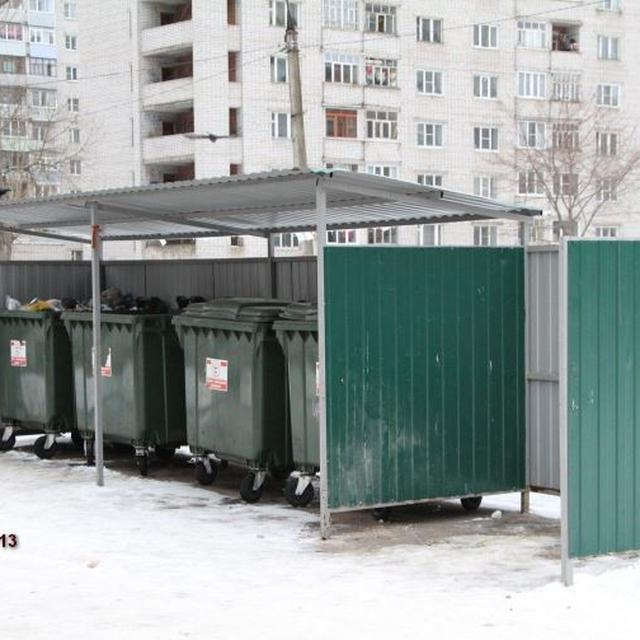Trash_Can_Closed: (172, 296, 289, 466), (273, 301, 319, 465)
Trash_Can_Full: (61, 288, 181, 448), (0, 295, 77, 433)
